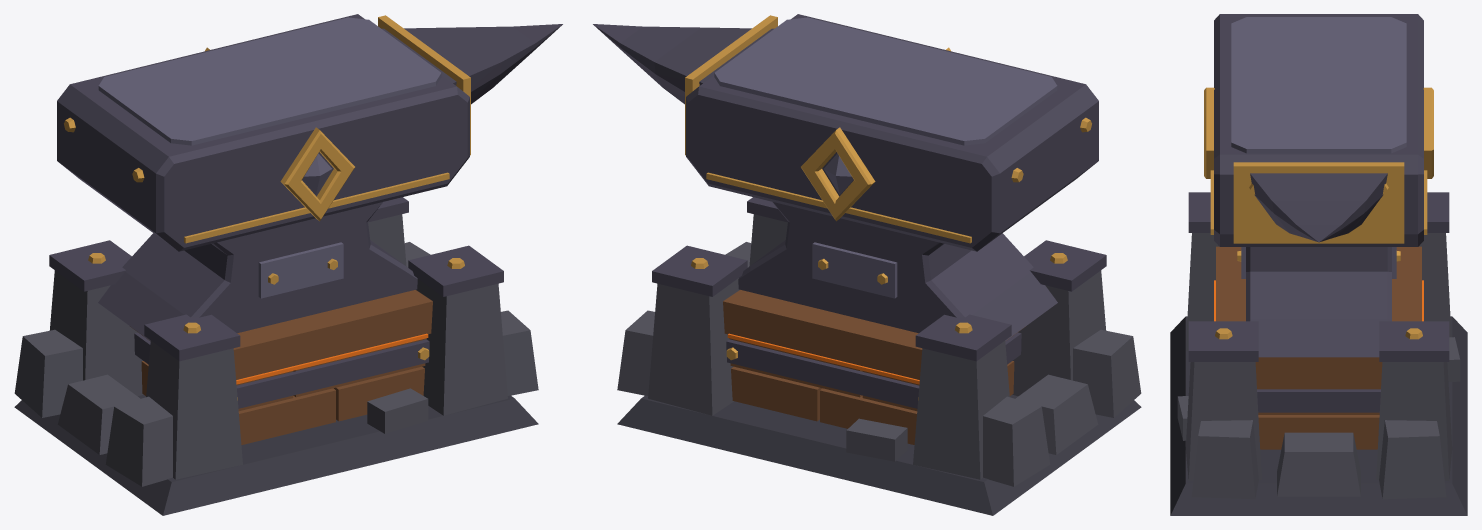
Rendered from Fantasy_Anvil.obj.
The picture shows the model from 3 angles, left to right: view 1: azimuth 30°, elevation 25°; view 2: azimuth 150°, elevation 25°; view 3: azimuth 270°, elevation 25°; orthographic projection.
Parts seen in each view (by area): view 1: Fantasy_Anvil; view 2: Fantasy_Anvil; view 3: Fantasy_Anvil.
Boxes of the visible parts, x1=… form: Fantasy_Anvil: x1=14, y1=14, x2=562, y2=515; Fantasy_Anvil: x1=593, y1=14, x2=1141, y2=515; Fantasy_Anvil: x1=1170, y1=14, x2=1467, y2=515.
Size of the model in its own units: 2.08 by 1.37 by 1.09.
1 material, 1 textured.
